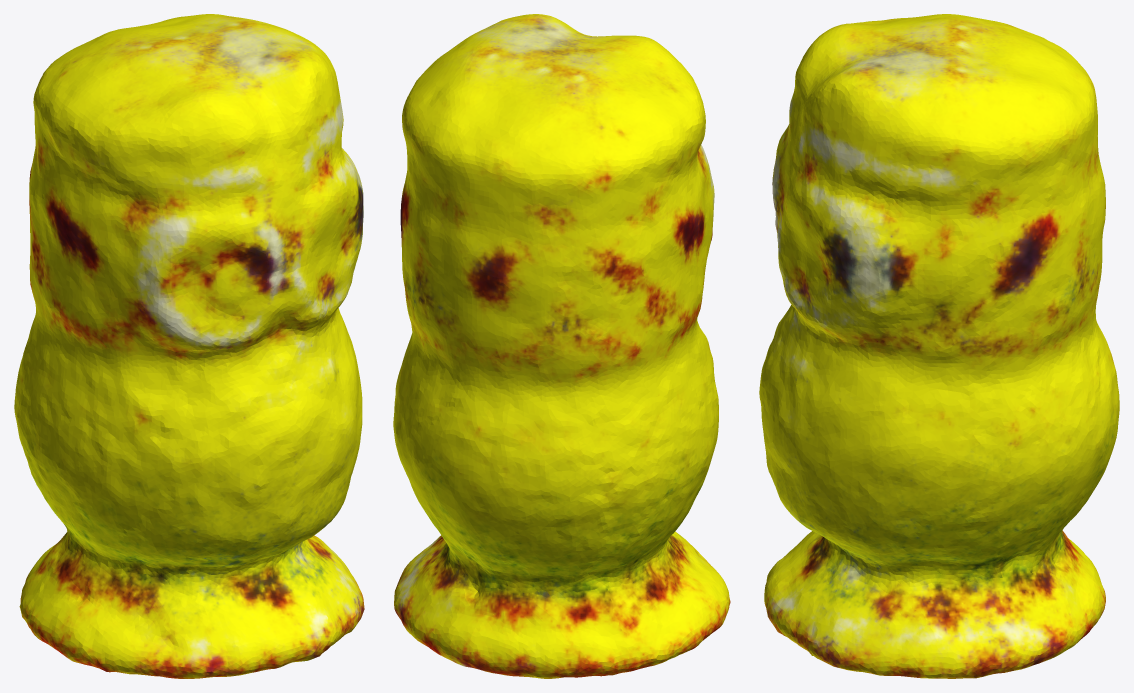
Rendered from owl-sd.glb.
3 renders of one model, left to right at view 1: azimuth 30°, elevation 25°; view 2: azimuth 150°, elevation 25°; view 3: azimuth 270°, elevation 25°, orthographic. The views are drawn at different scales.
Size of the model in its own units: 0.9659 by 1.79 by 1.01.
Materials: 1 (1 with a texture image).
